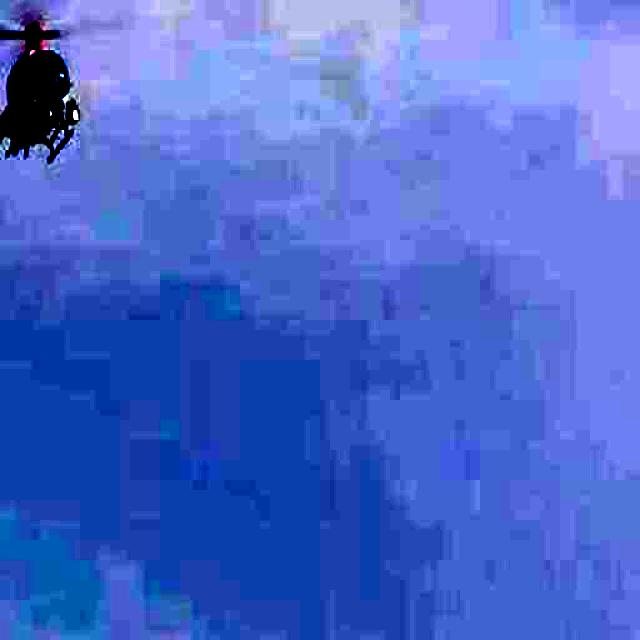drone: (0, 0, 144, 208)
